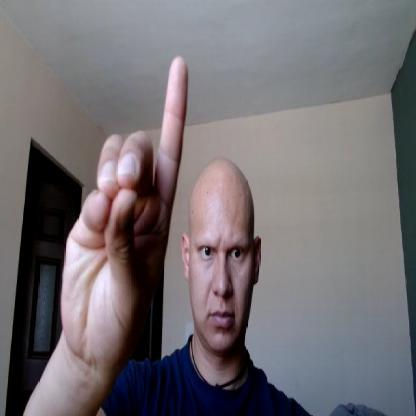D: (61, 55, 188, 365)
